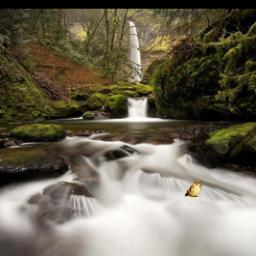Sparrow: (185, 180, 204, 197)
